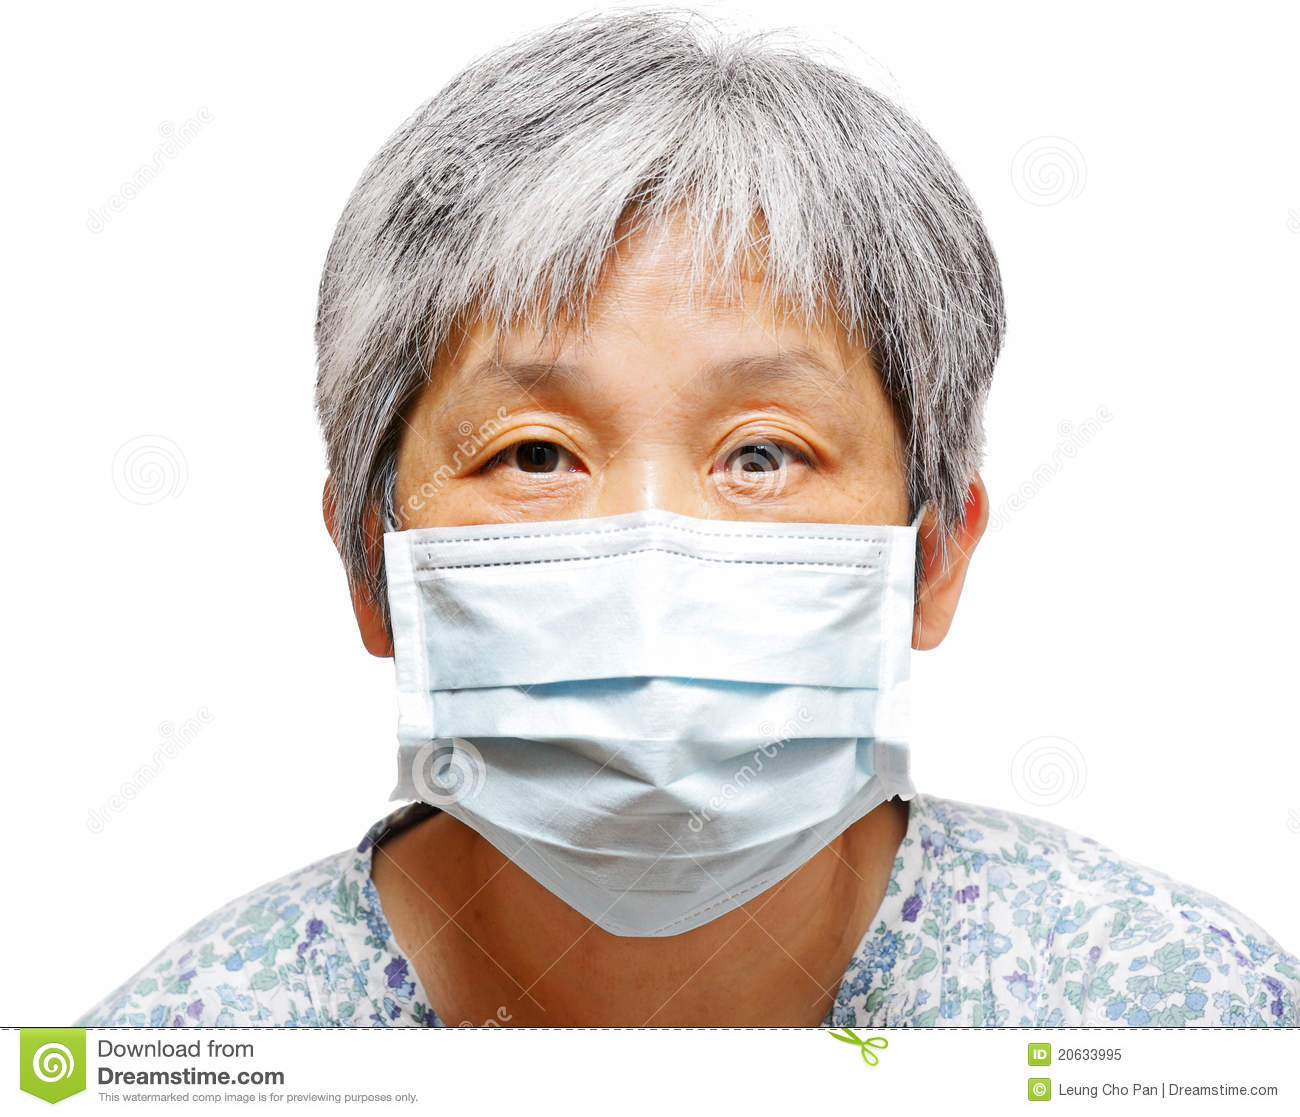mask: (374, 516, 926, 914)
